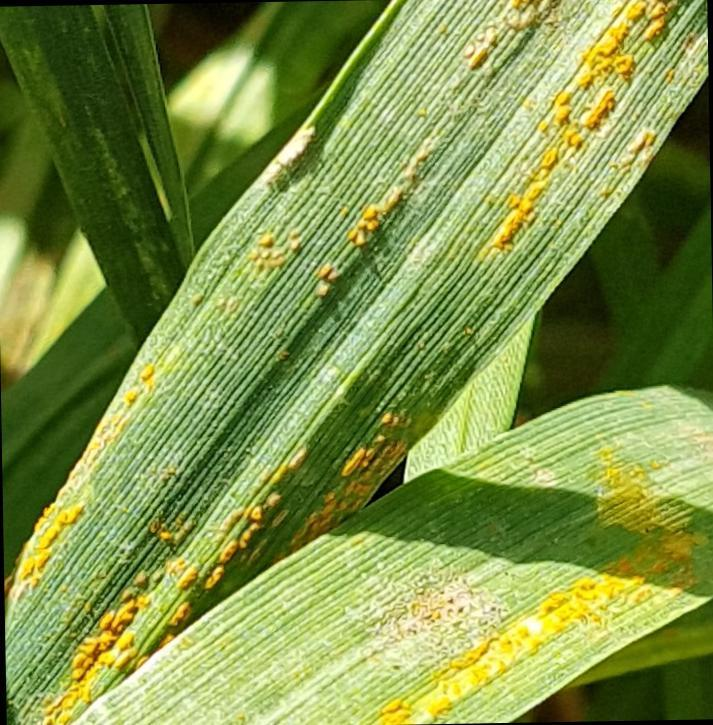Wheat: (446, 0, 698, 264), (23, 494, 316, 720), (320, 558, 628, 724), (0, 482, 102, 616)
